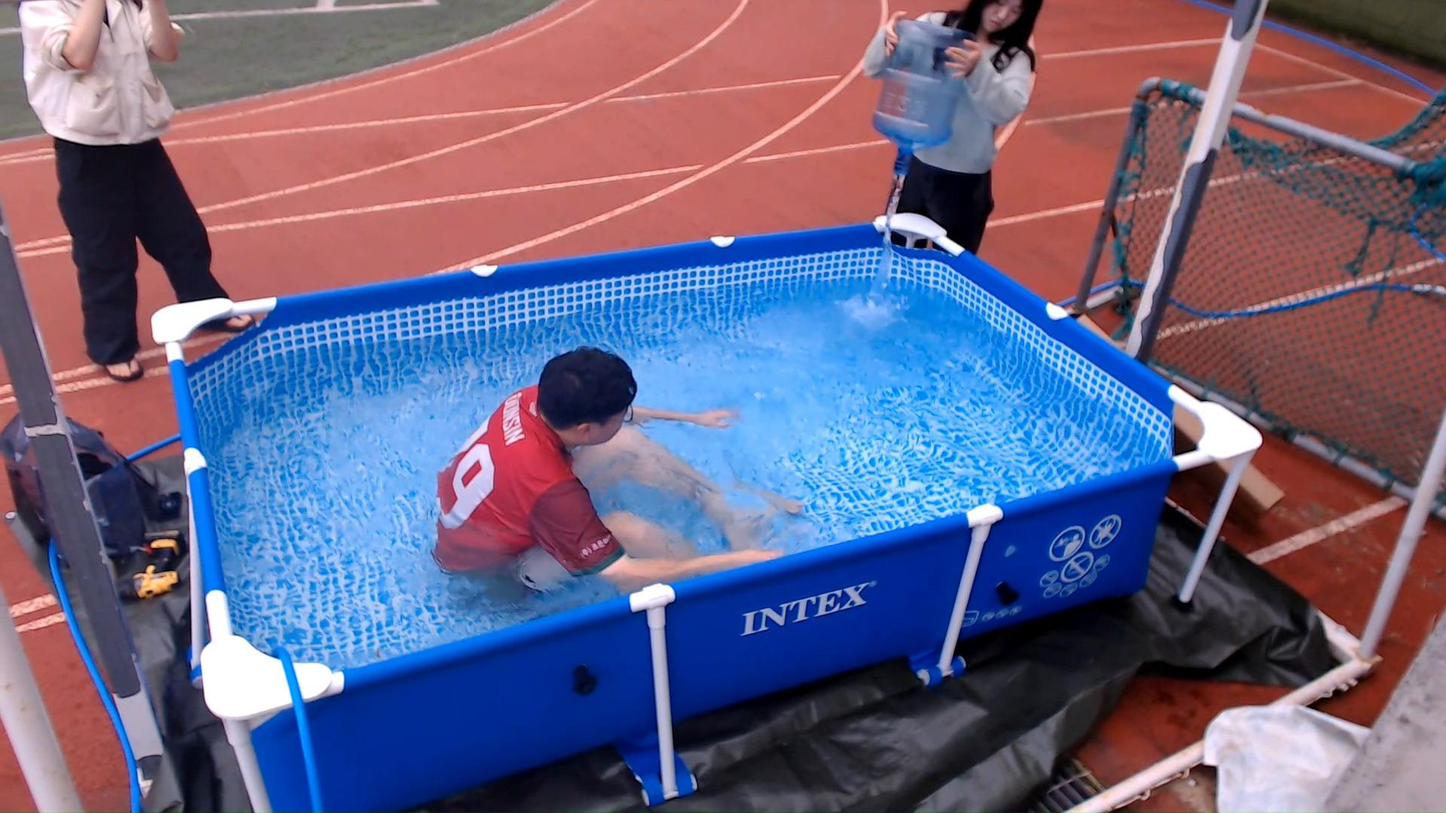Person-out-of-water: (0, 0, 312, 379), (843, 0, 1066, 281)
Swimming: (409, 301, 812, 618)
